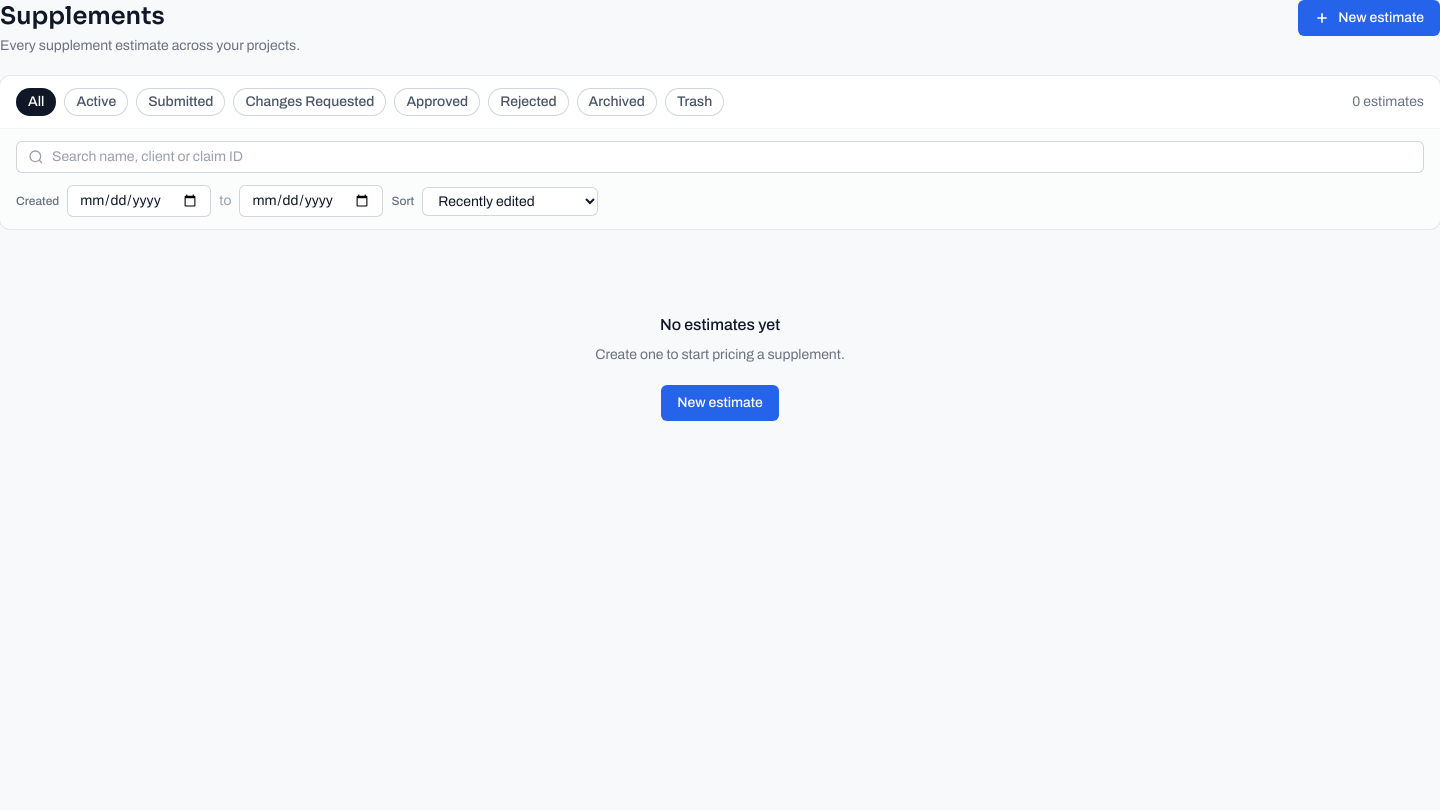
Test: EstimatesListPage › creating › keeps a duplicate claim id on screen beside the field
Click the button "New estimate" in the row of "Supplements" at (1369, 18), box [1298,0,1439,36]
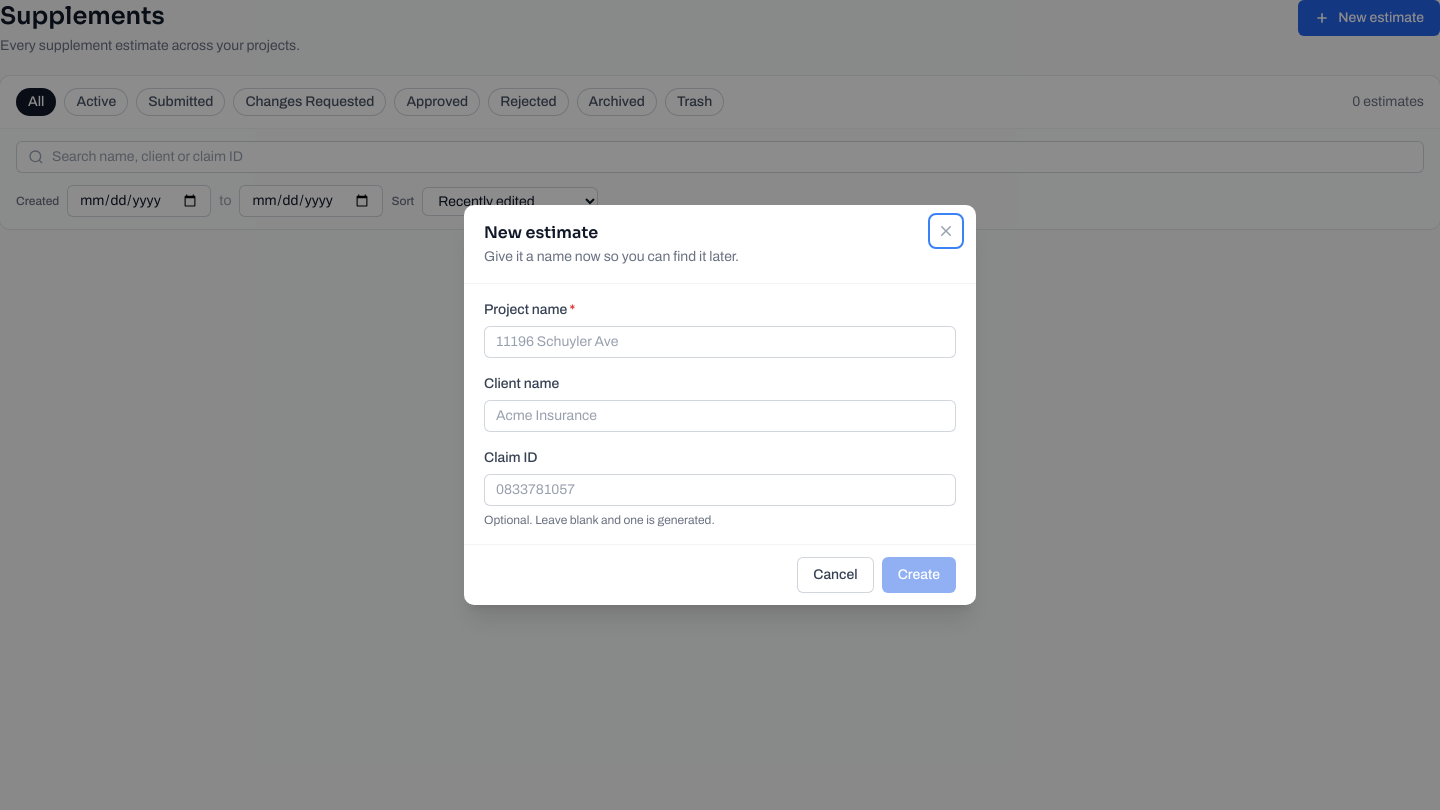
Type "Roof job" into the field labelled "Project name*" at (720, 342), box [484,326,956,358]
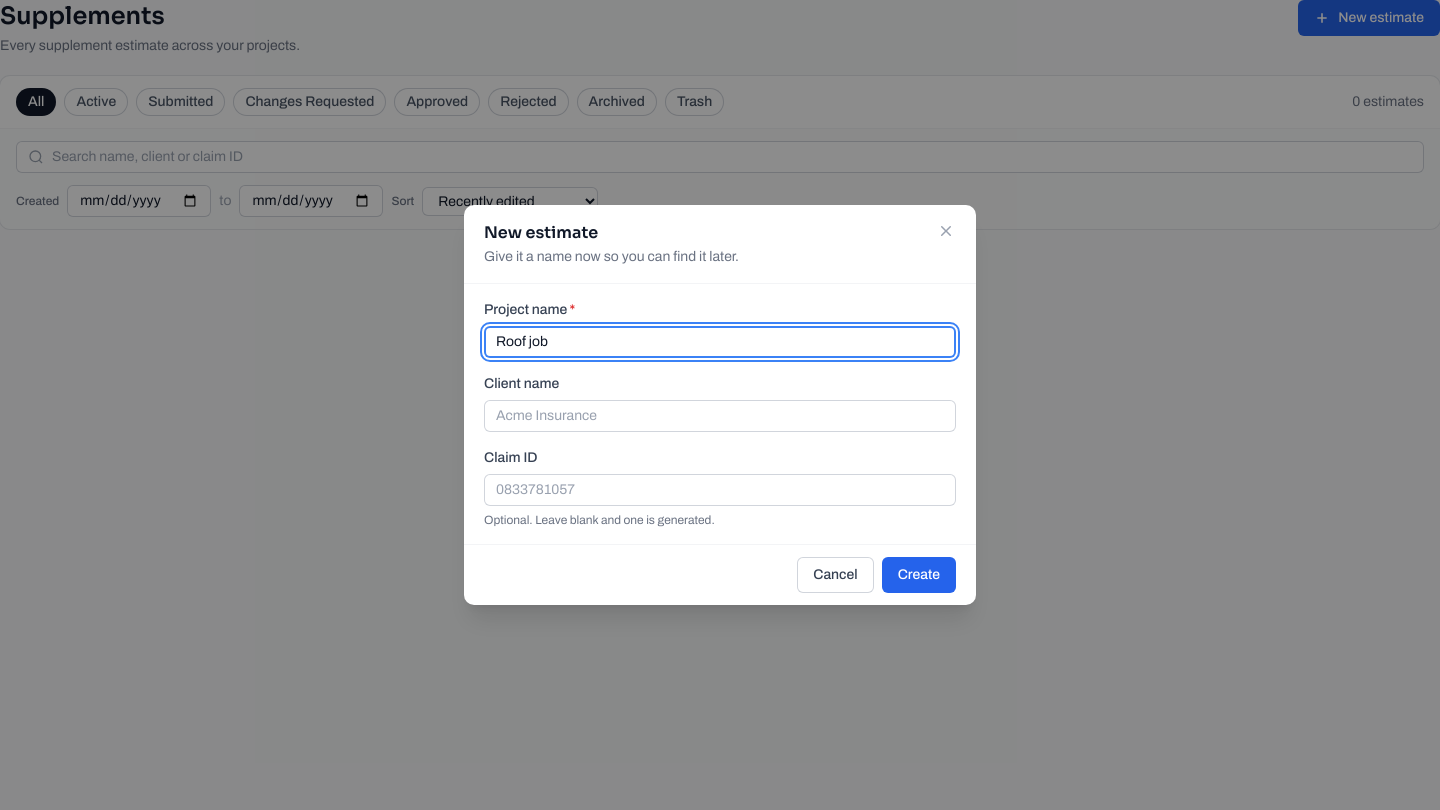
Type "DUP-1" into the field labelled "Claim ID" at (720, 490), box [484,474,956,506]
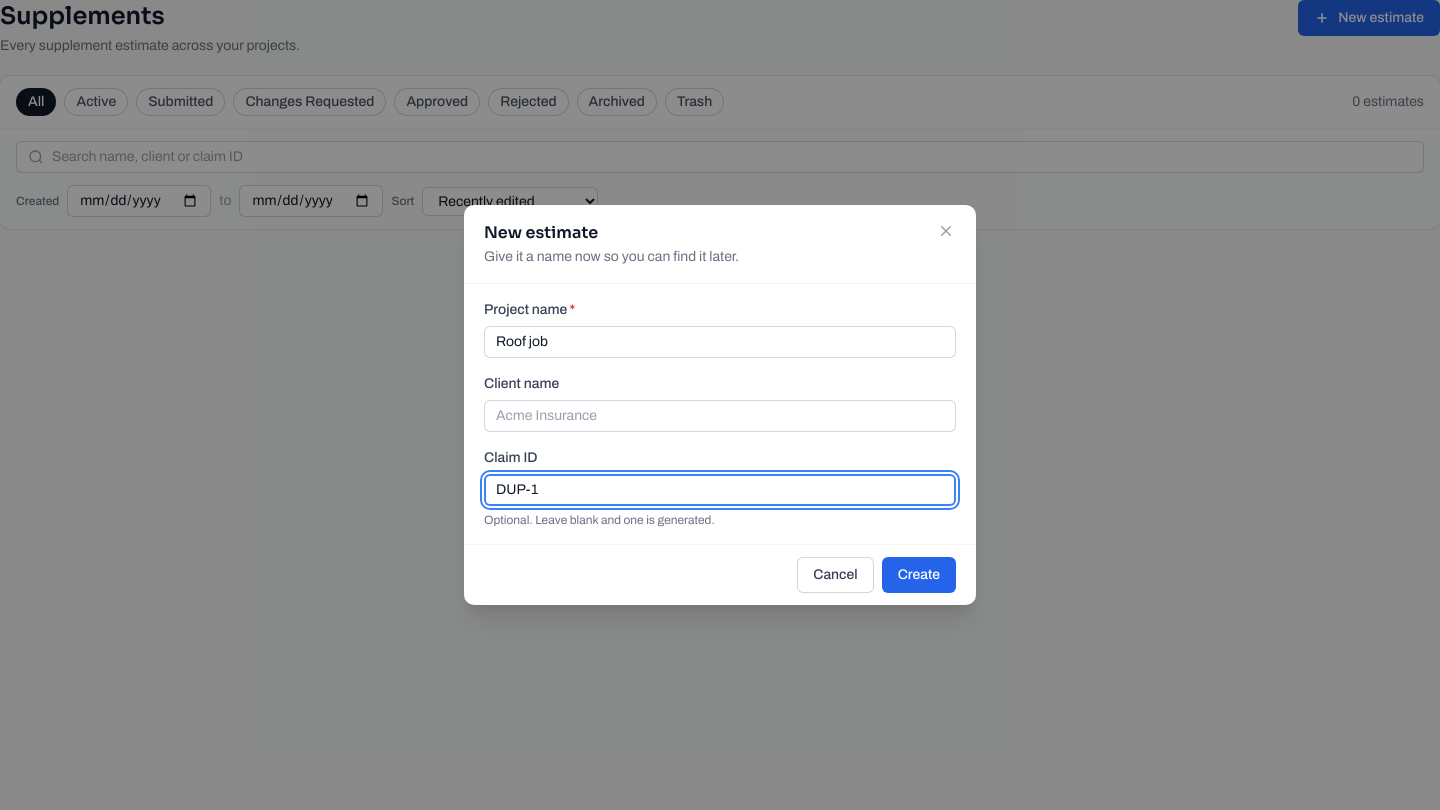
Click the button "Create" at (919, 575), box [882,557,956,593]
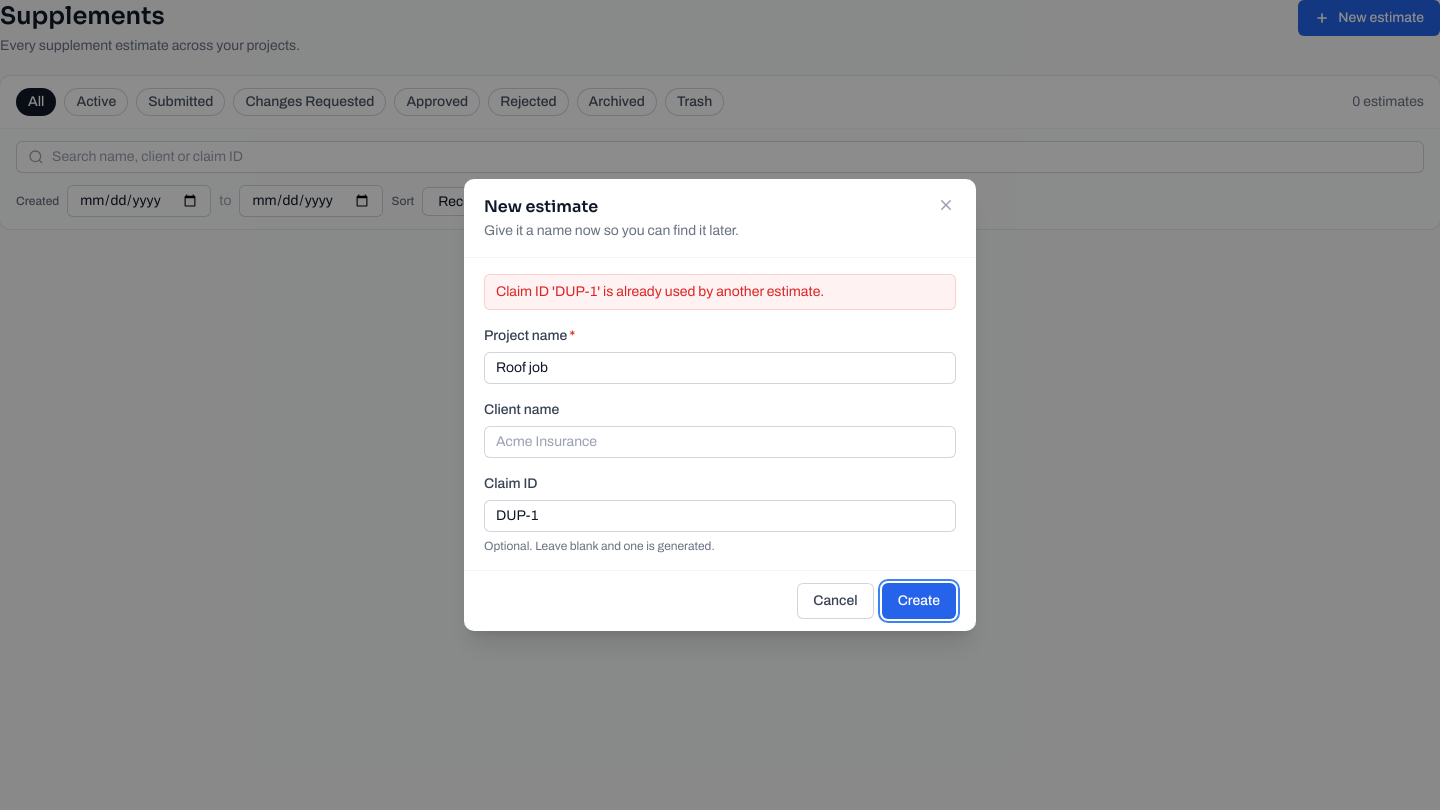
expect the text "Claim ID 'DUP-1' is already used by another estimate." is shown: met, box [484,274,956,310]
